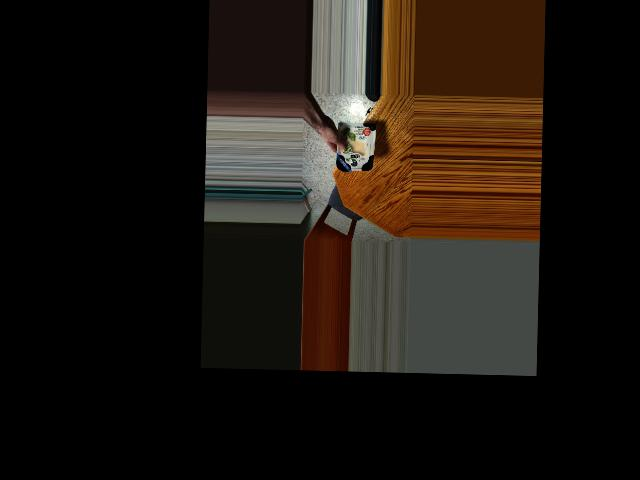cheese: (334, 111, 375, 183)
